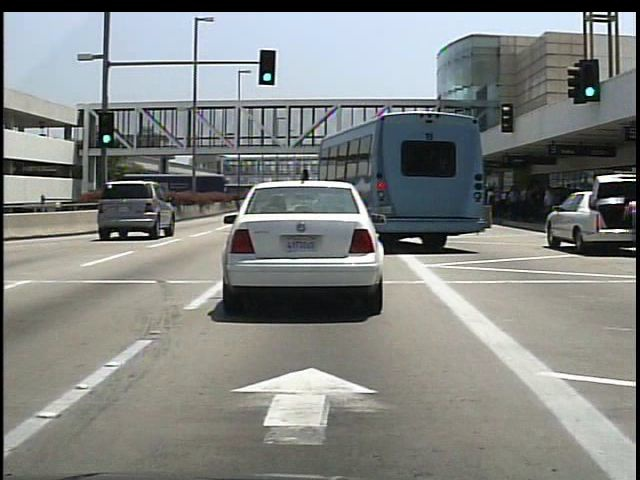person: (618, 191, 639, 254)
